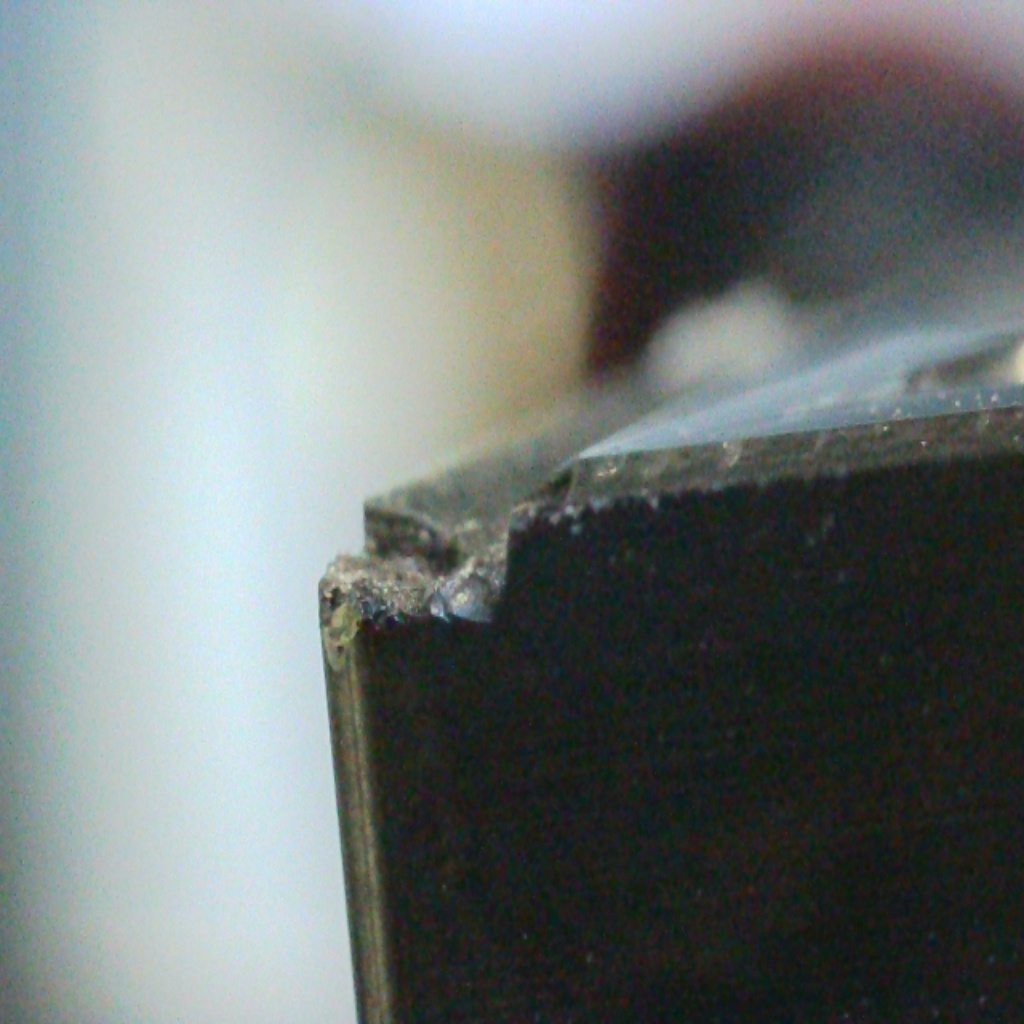flank_wear: (318, 585, 508, 677)
